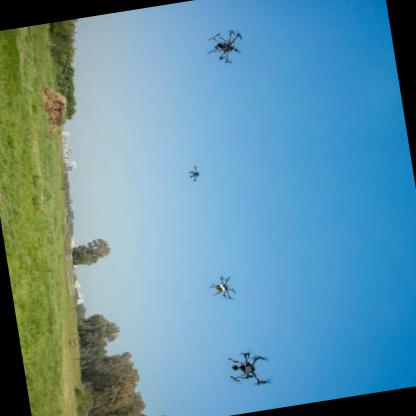drone: (197, 21, 256, 71), (219, 344, 279, 393), (201, 270, 242, 305), (184, 162, 207, 185)
